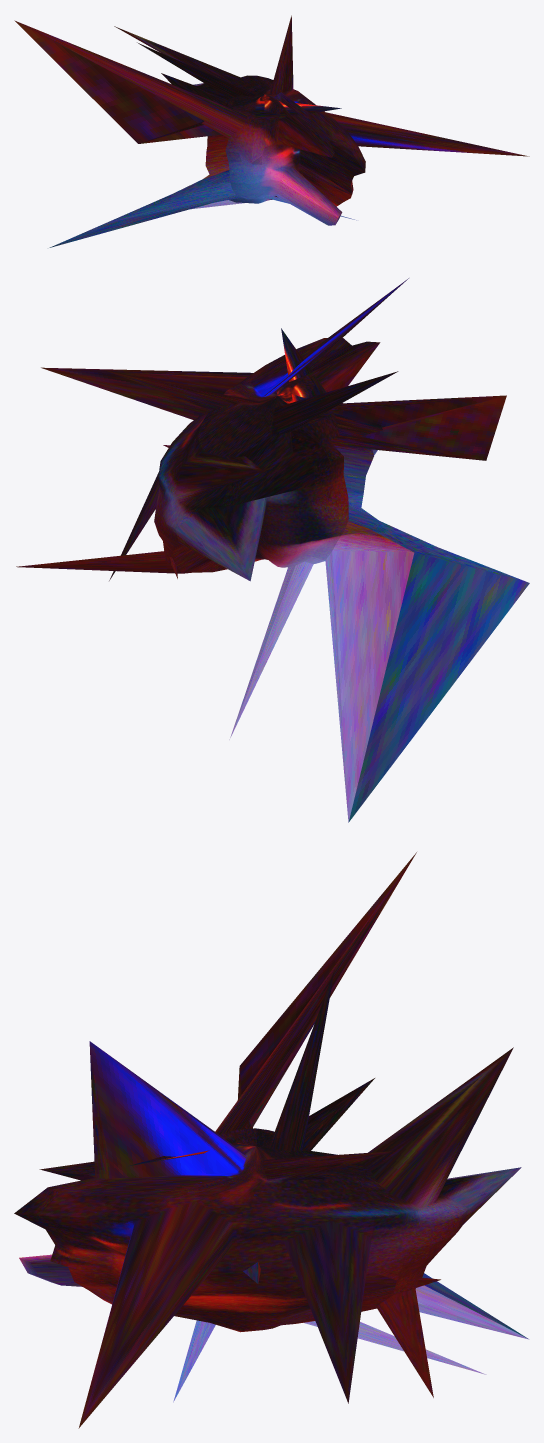
The model's file is otherneg2.glb.
3 renders of one model, top to bottom at view 1: azimuth 30°, elevation 25°; view 2: azimuth 150°, elevation 25°; view 3: azimuth 270°, elevation 25°, orthographic. The views are drawn at different scales.
Visible parts, largest first — view 1: Sphere; view 2: Sphere; view 3: Sphere.
Part boxes in pixels (box(x1,y1,x2,y2)): Sphere: box(14, 15, 529, 247); Sphere: box(16, 278, 529, 822); Sphere: box(14, 852, 529, 1428).
Size of the model in its own units: 10.91 by 6.87 by 7.39.
1 material, 1 textured.
